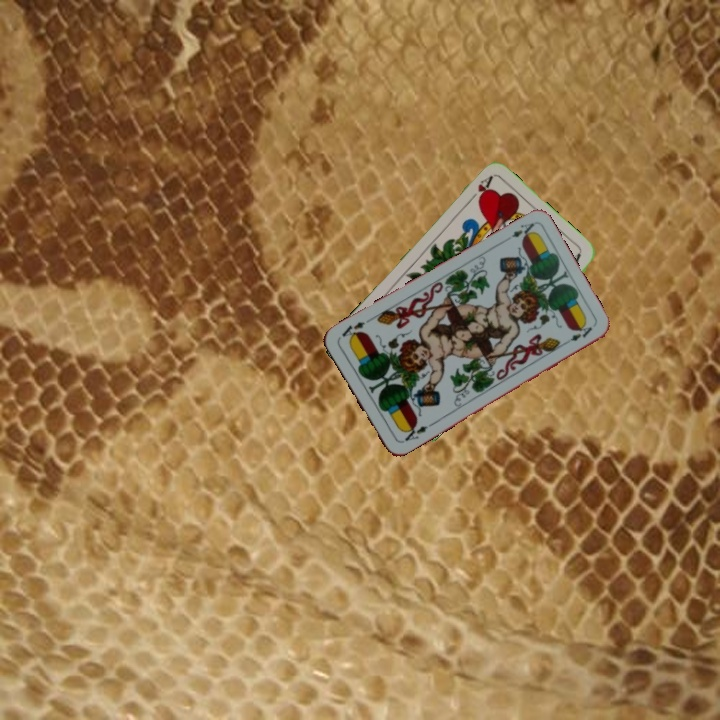EA: (398, 420, 435, 446), (500, 219, 537, 245)
HA: (463, 172, 495, 206)
